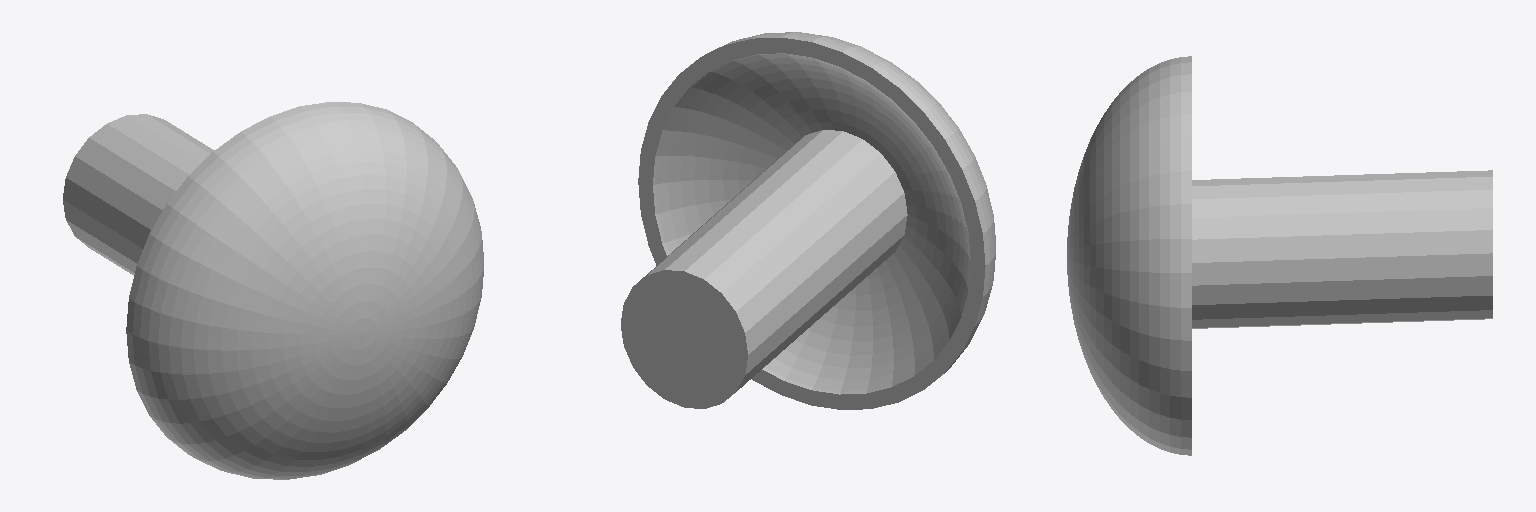
File: GreenieTinker.obj
The picture shows the model from 3 angles: view 1: azimuth 30°, elevation 25°; view 2: azimuth 150°, elevation 25°; view 3: azimuth 270°, elevation 25°; orthographic projection.
Parts seen in each view (by area): view 1: obj_0; view 2: obj_0; view 3: obj_0.
Boxes of the visible parts, <box> form: obj_0: <box>63,102,483,479</box>; obj_0: <box>621,32,995,409</box>; obj_0: <box>1067,56,1492,455</box>.
Size of the model in its own units: 50.8 by 50.8 by 53.98.